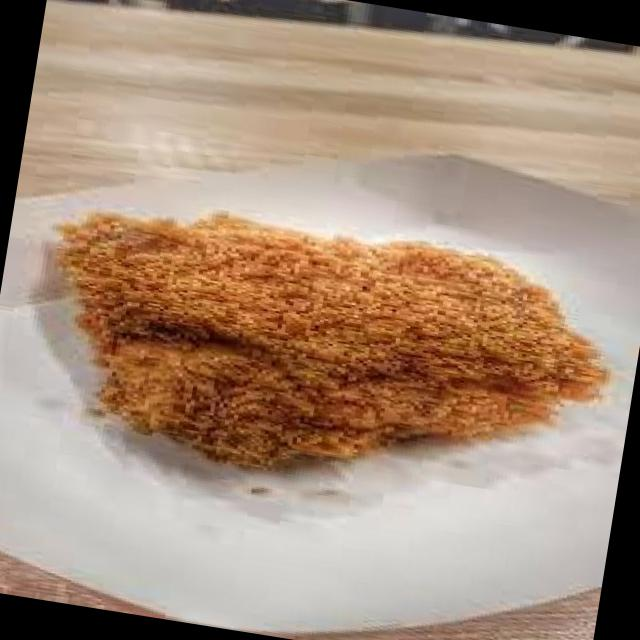Fried Chicken: (55, 211, 609, 471)
